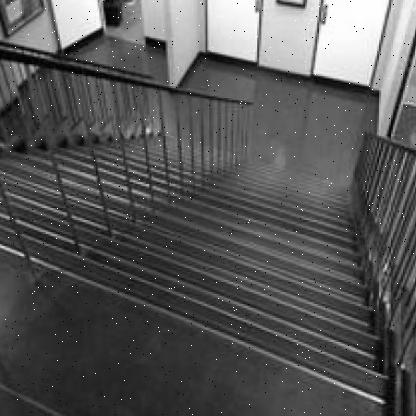stair_down: (98, 236, 351, 414)
